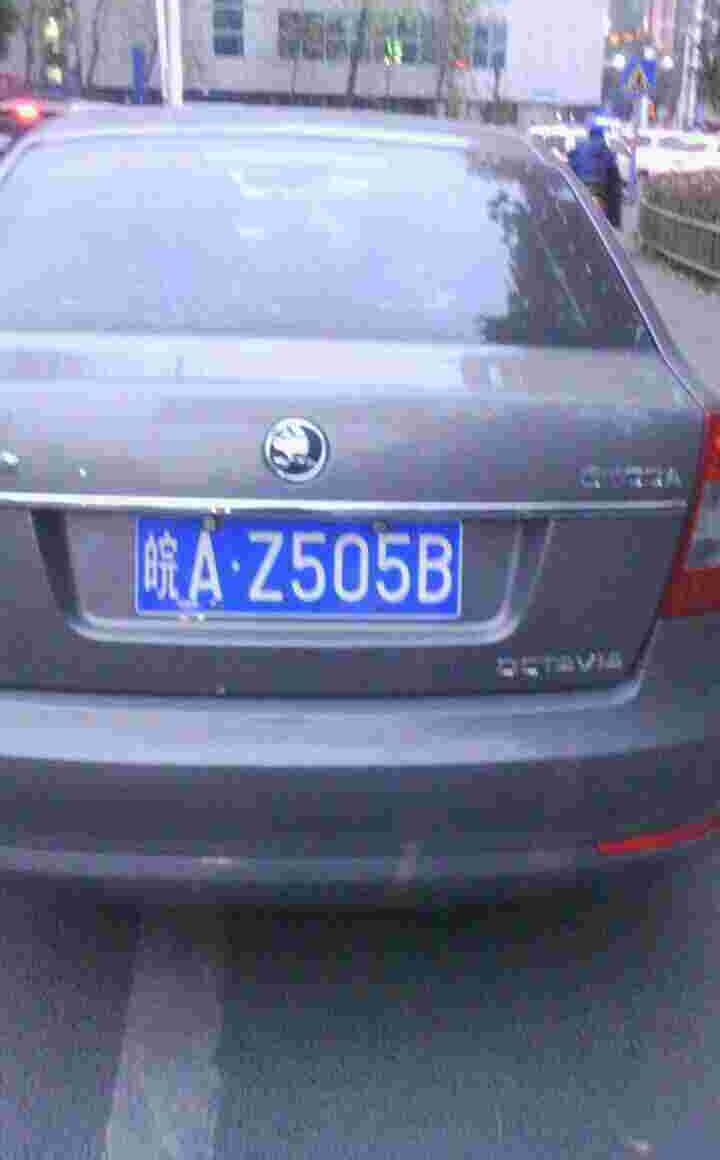license_plate: (137, 515, 463, 625)
